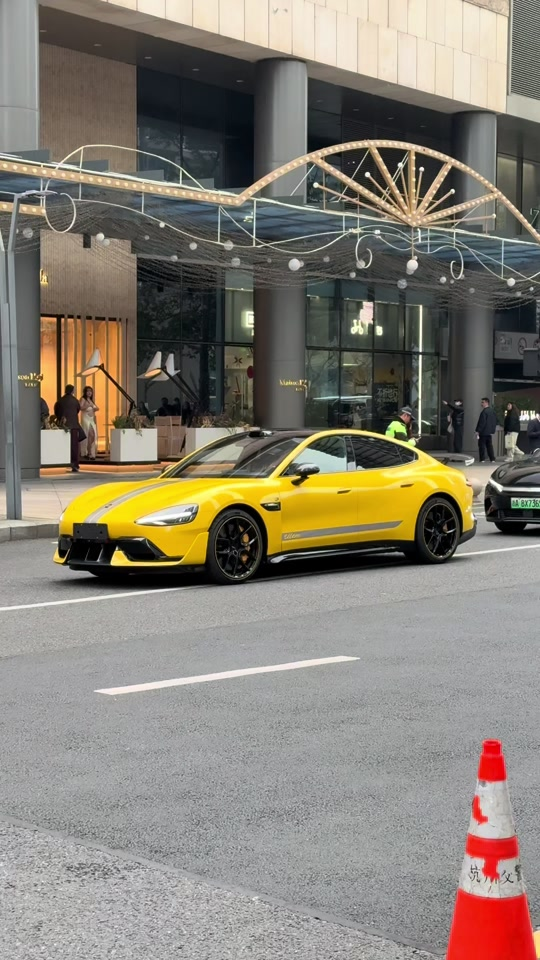su7: (57, 430, 475, 578)
